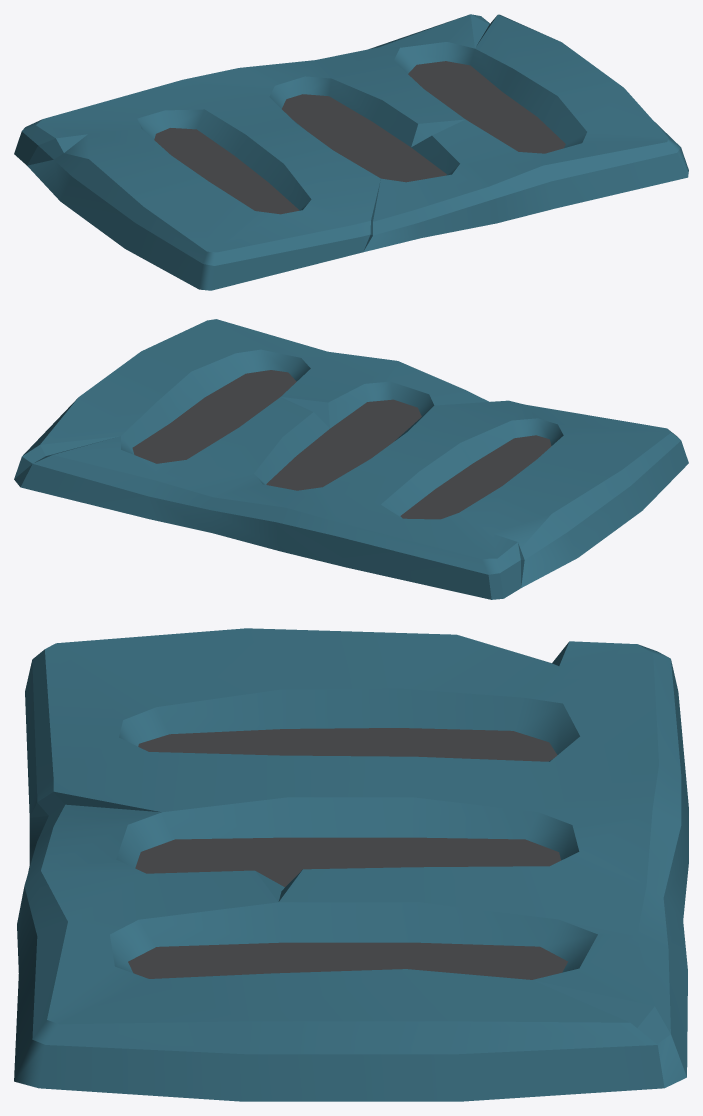
Rendered from DE_DrainCover_01.fbx.
3 views of the same model, one above another, from view 1: azimuth 30°, elevation 25°; view 2: azimuth 150°, elevation 25°; view 3: azimuth 270°, elevation 25° (orthographic). The views are drawn at different scales.
Parts seen in each view (by area): view 1: DE_DrainCover_01; view 2: DE_DrainCover_01; view 3: DE_DrainCover_01.
Part boxes in pixels (x1,y1,x2,y2): DE_DrainCover_01: (14, 14, 688, 290); DE_DrainCover_01: (14, 319, 688, 599); DE_DrainCover_01: (14, 628, 688, 1101).
Size of the model in its own units: 101 by 7.1 by 67.57.
